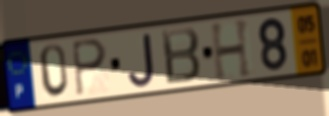0: (37, 42, 70, 100)
8: (256, 15, 290, 74)
B: (159, 25, 203, 87)
H: (209, 16, 255, 82)
J: (126, 31, 157, 90)
P: (70, 37, 110, 99)
